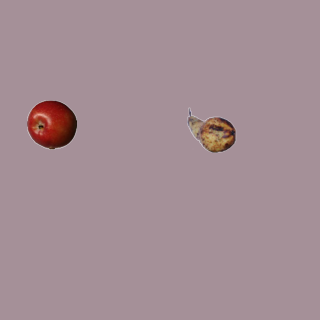Apple Braeburn: (26, 99, 76, 149)
Pear Abate: (186, 105, 236, 155)
